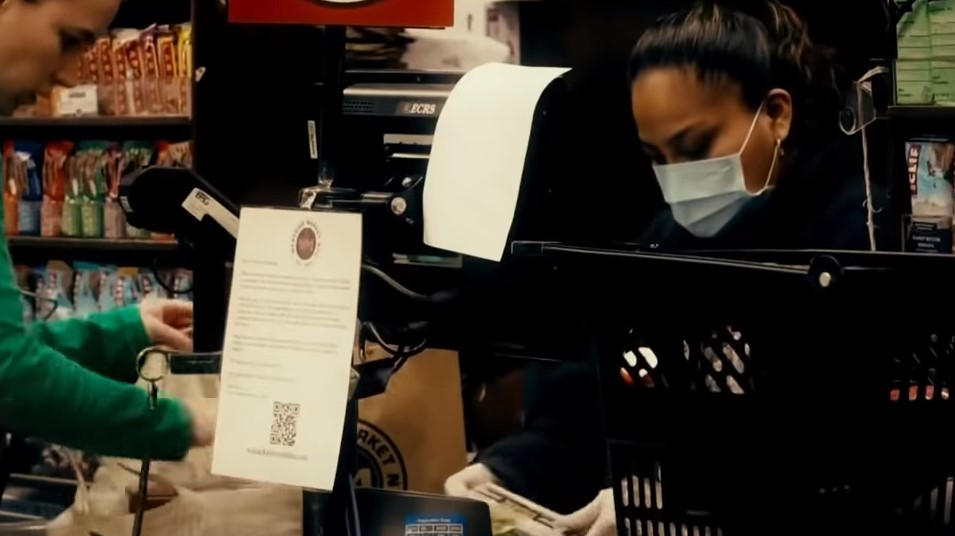face_no_mask: (4, 2, 122, 123)
face_with_mask: (625, 17, 802, 242)
